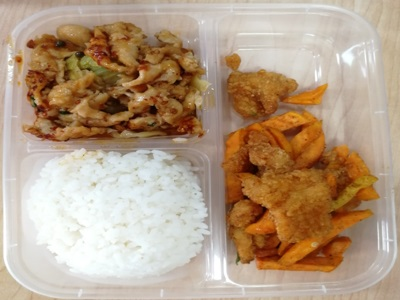r5: (226, 56, 367, 263)
rice: (30, 158, 200, 272)
